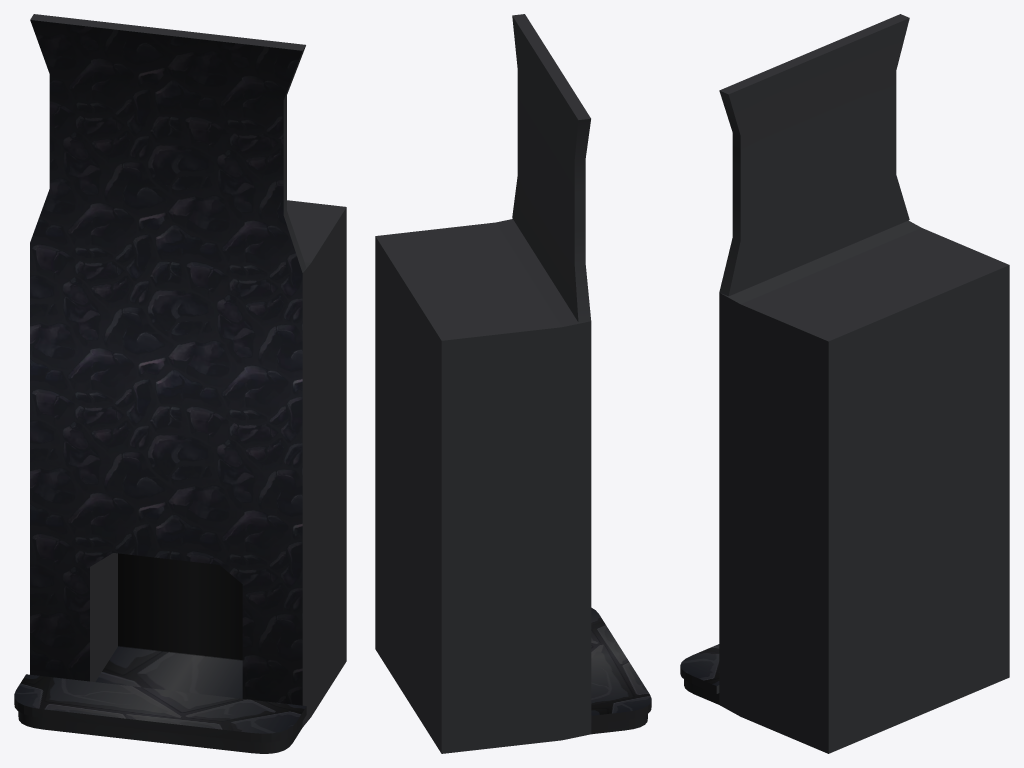
File: NewFireplace.fbx
The picture shows the model from 3 angles, left to right: view 1: azimuth 30°, elevation 25°; view 2: azimuth 150°, elevation 25°; view 3: azimuth 270°, elevation 25°; orthographic projection. The views are drawn at different scales.
Parts seen in each view (by area): view 1: Box2879; view 2: Box2879; view 3: Box2879.
Boxes of the visible parts, x1,y1,x2,y2 form: Box2879: (14,14,346,753); Box2879: (375,14,651,753); Box2879: (680,14,1009,753).
Bounding box in the file's own units: 87.47 × 181 × 87.48.
